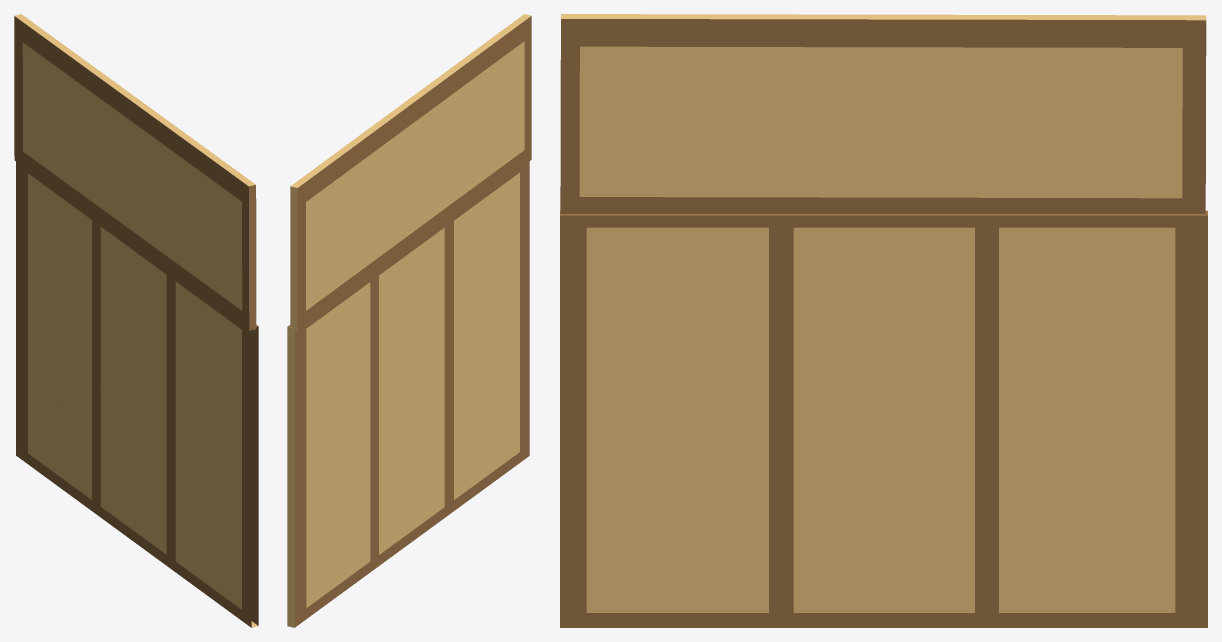
The model's file is wall3.fbx.
The picture shows the model from 3 angles, left to right: view 1: azimuth 30°, elevation 25°; view 2: azimuth 150°, elevation 25°; view 3: azimuth 270°, elevation 25°; orthographic projection. The views are drawn at different scales.
Parts seen in each view (by area): view 1: Cube.011, Cube.014; view 2: Cube.011, Cube.014; view 3: Cube.011, Cube.014.
Part boxes in pixels (x1,y1,x2,y2): Cube.011: (16,162,258,627); Cube.014: (14,14,256,330); Cube.011: (287,161,529,627); Cube.014: (290,14,531,331); Cube.011: (560,210,1207,627); Cube.014: (560,14,1206,213).
Size of the model in its own units: 9.54 by 416 by 402.
